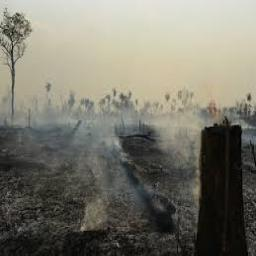Low smoke: (0, 0, 256, 227)
